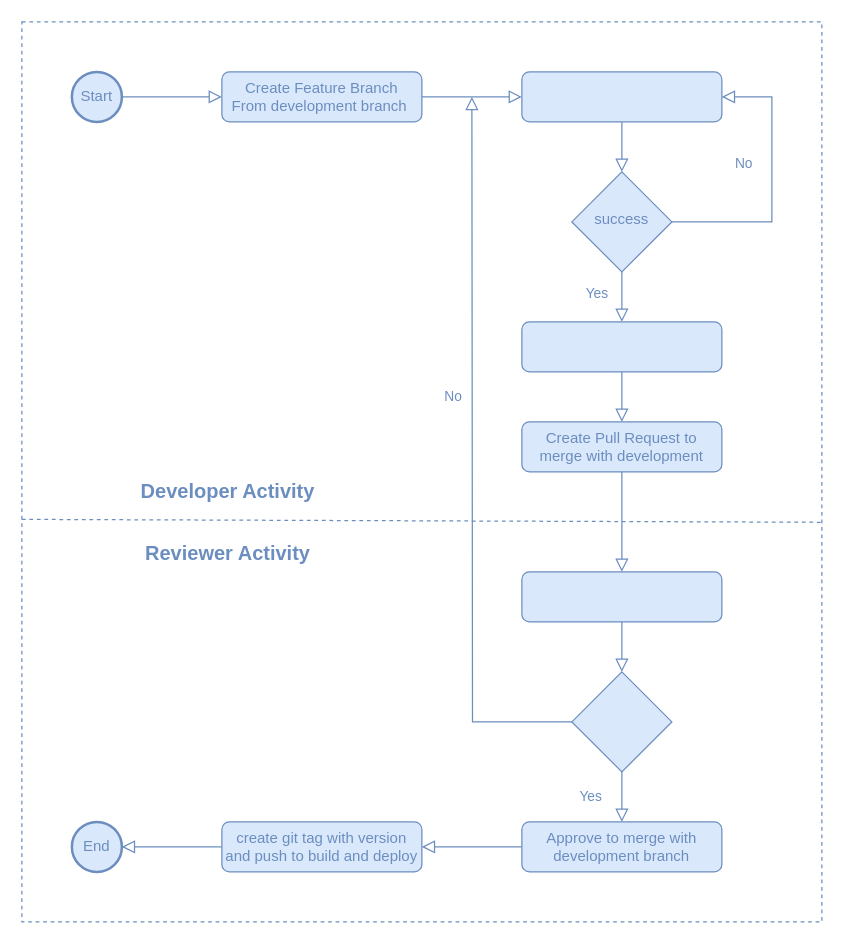
Image size: 846x944. Some labels were removed from this diagram. The box of each missing label's shape, as (x1, y1, x2, y2) in pixels:
Implement logic and verify in individual environment: (521, 71, 722, 122)
Review Passed: (571, 671, 672, 772)
Review Pull Request: (521, 571, 722, 622)
Update application version and commit to branch: (521, 321, 722, 372)
